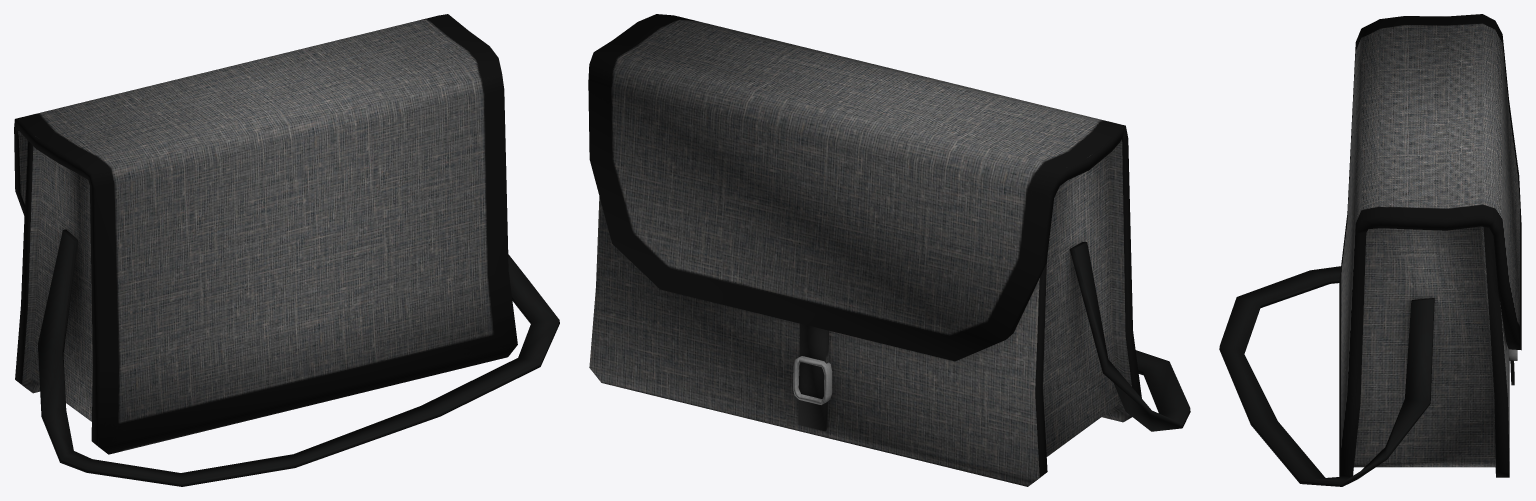
File: messenger_bag_1.fbx
The picture shows the model from 3 angles, left to right: view 1: azimuth 30°, elevation 25°; view 2: azimuth 150°, elevation 25°; view 3: azimuth 270°, elevation 25°; orthographic projection. The views are drawn at different scales.
Parts seen in each view (by area): view 1: messenger_bag_1; view 2: messenger_bag_1; view 3: messenger_bag_1.
Part boxes in pixels (x1,y1,x2,y2): messenger_bag_1: (14,14,559,486); messenger_bag_1: (588,14,1190,486); messenger_bag_1: (1219,14,1521,486).
Bounding box in the file's own units: 0.9126 × 0.4969 × 0.4989.
